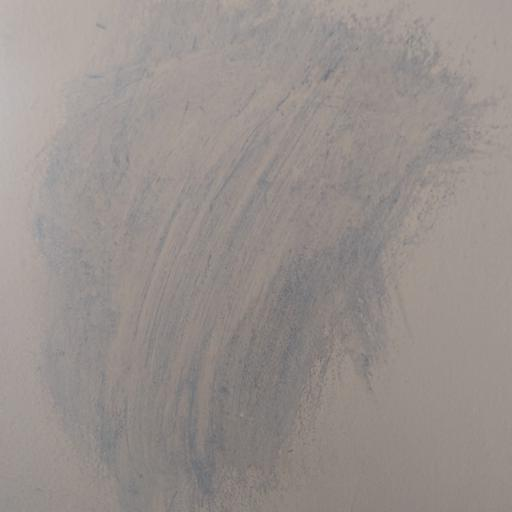stain: (55, 14, 509, 512)
